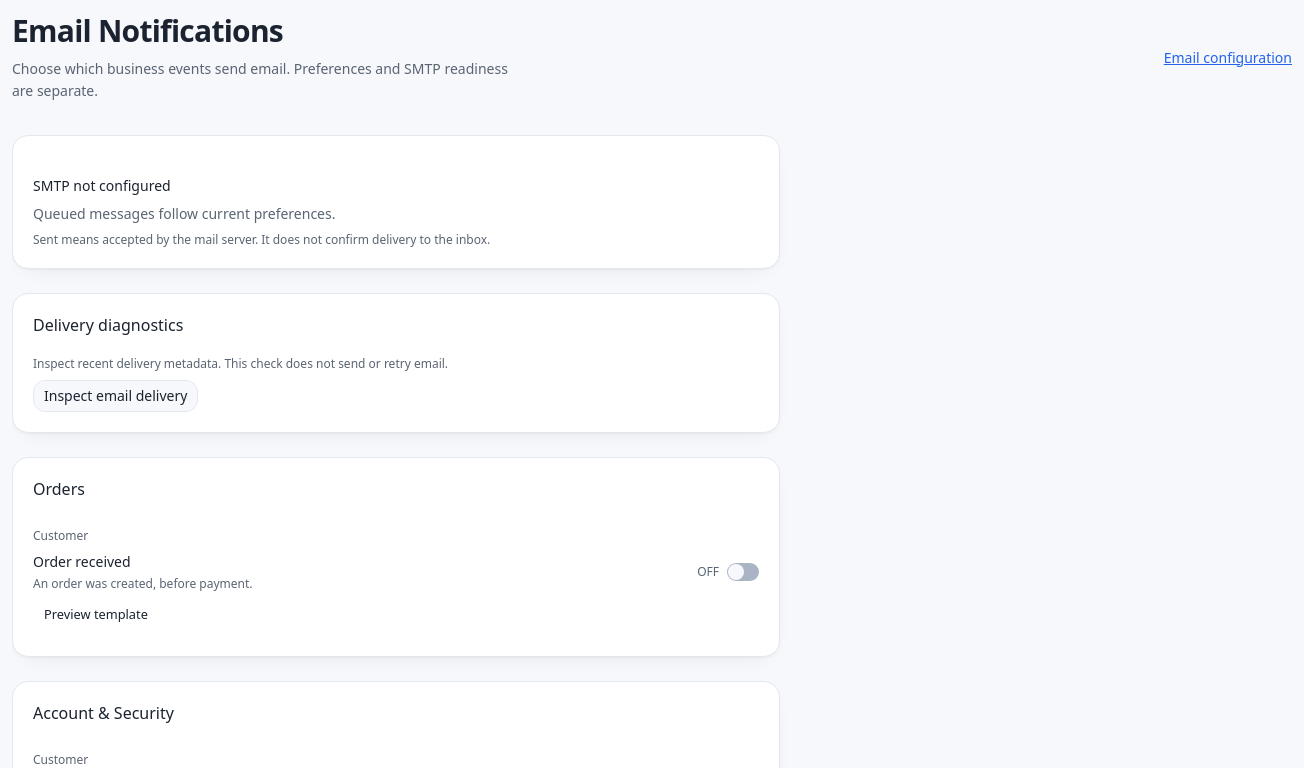
Scenario: posts a boolean preference and retains the saved state after failure
Click the switch named "Order received" next to "OFF": (743, 572) [727,563,759,581]
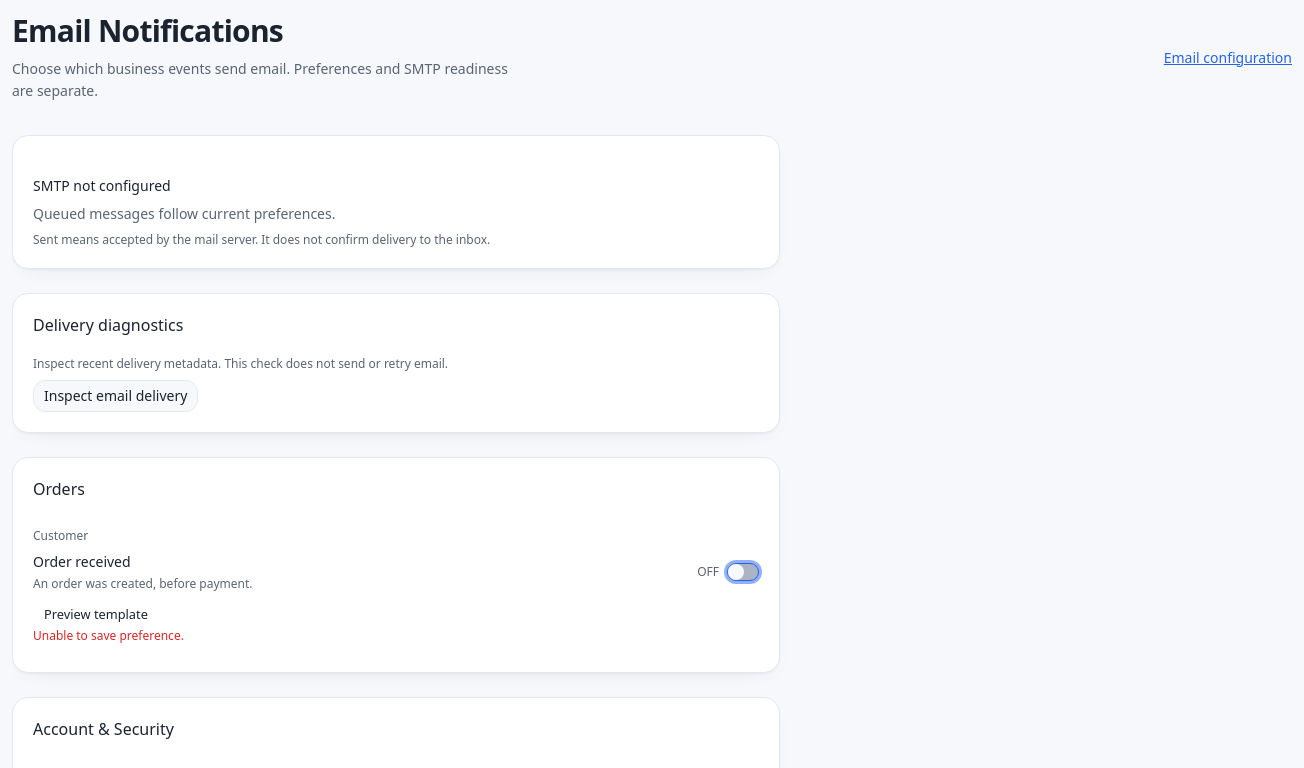
Expected: the message reads "Unable to save preference.", [33,627,184,644]
